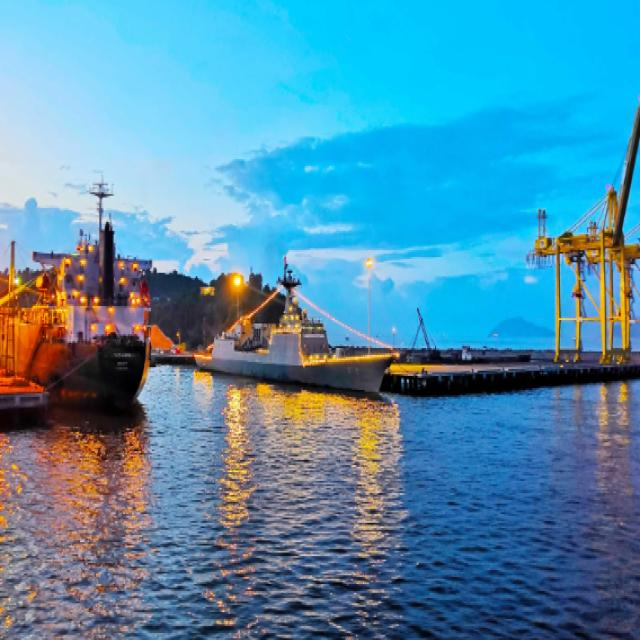houseboat: (0, 190, 163, 391), (213, 262, 398, 383)
